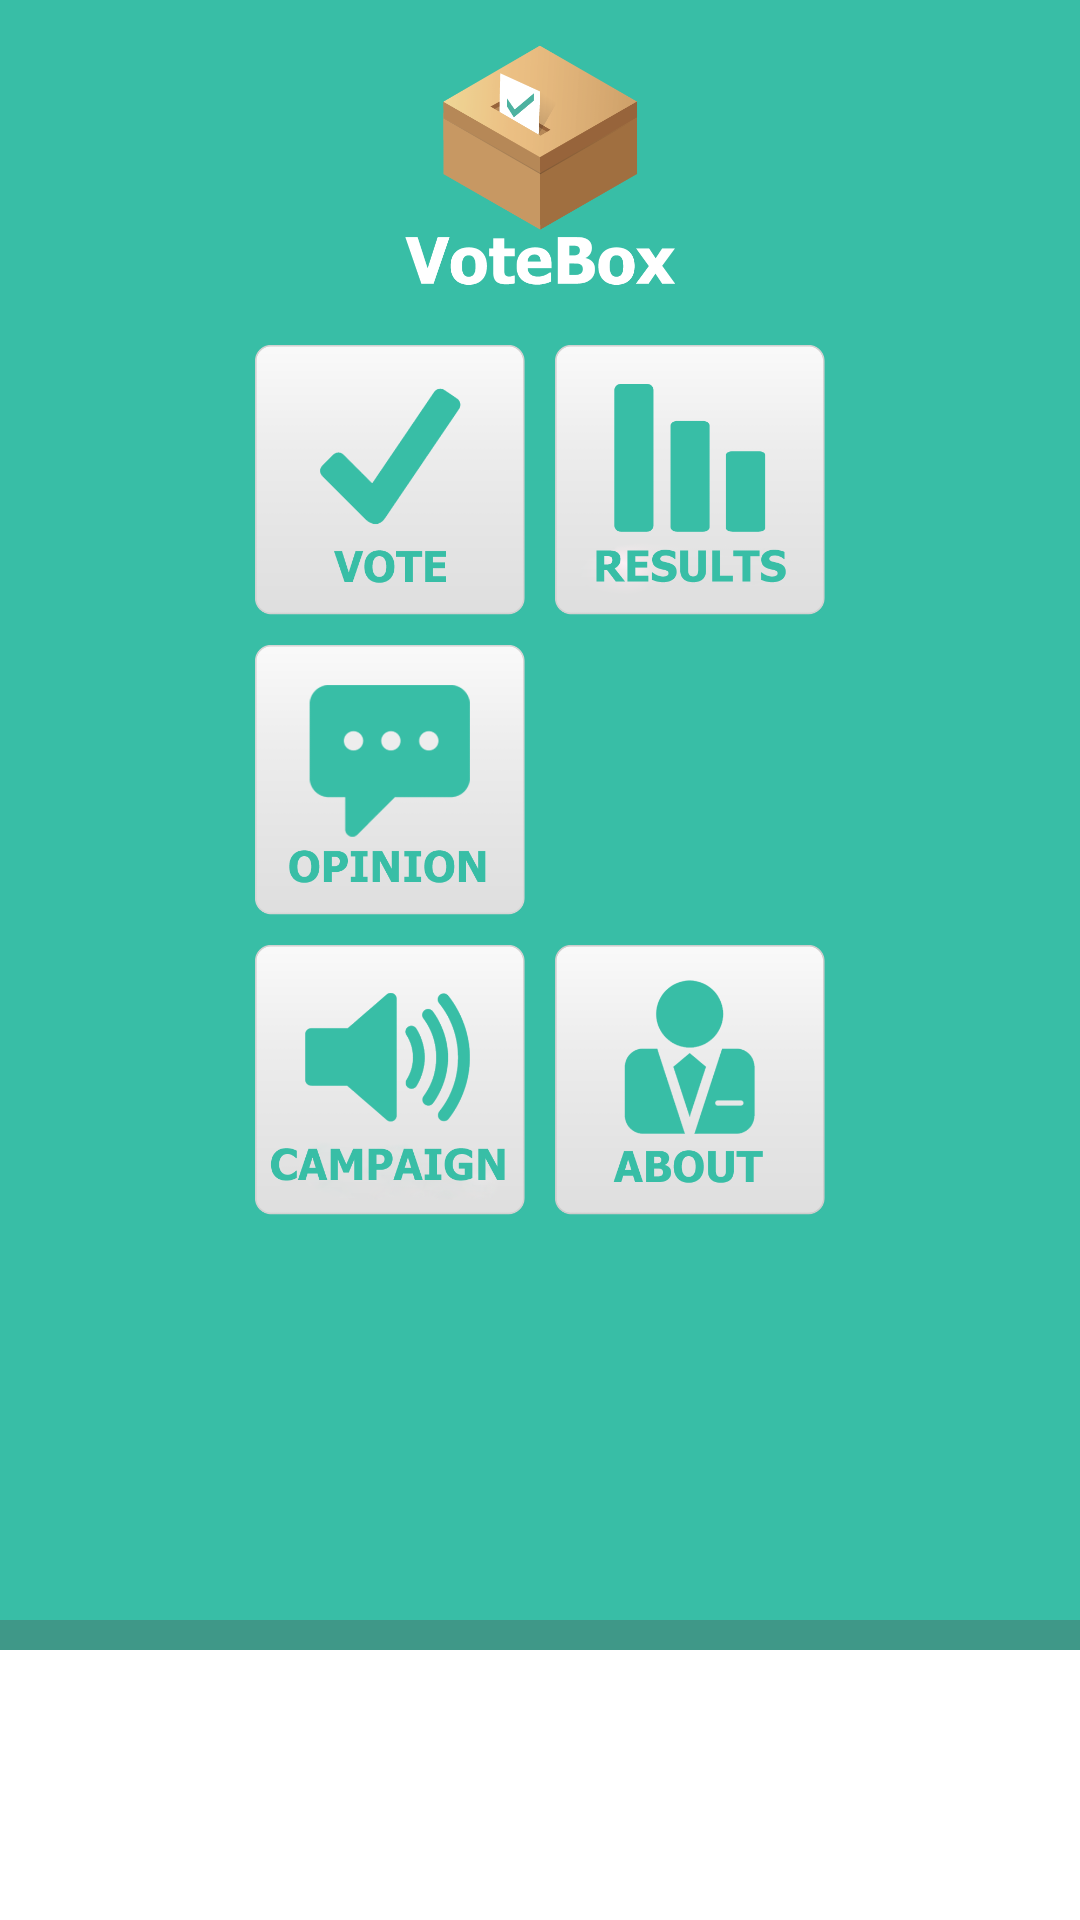

Screen size 1080*1920. Icon name, then its center in pixels as (x=x, y=y):
tile promote: (x=390, y=1080)
